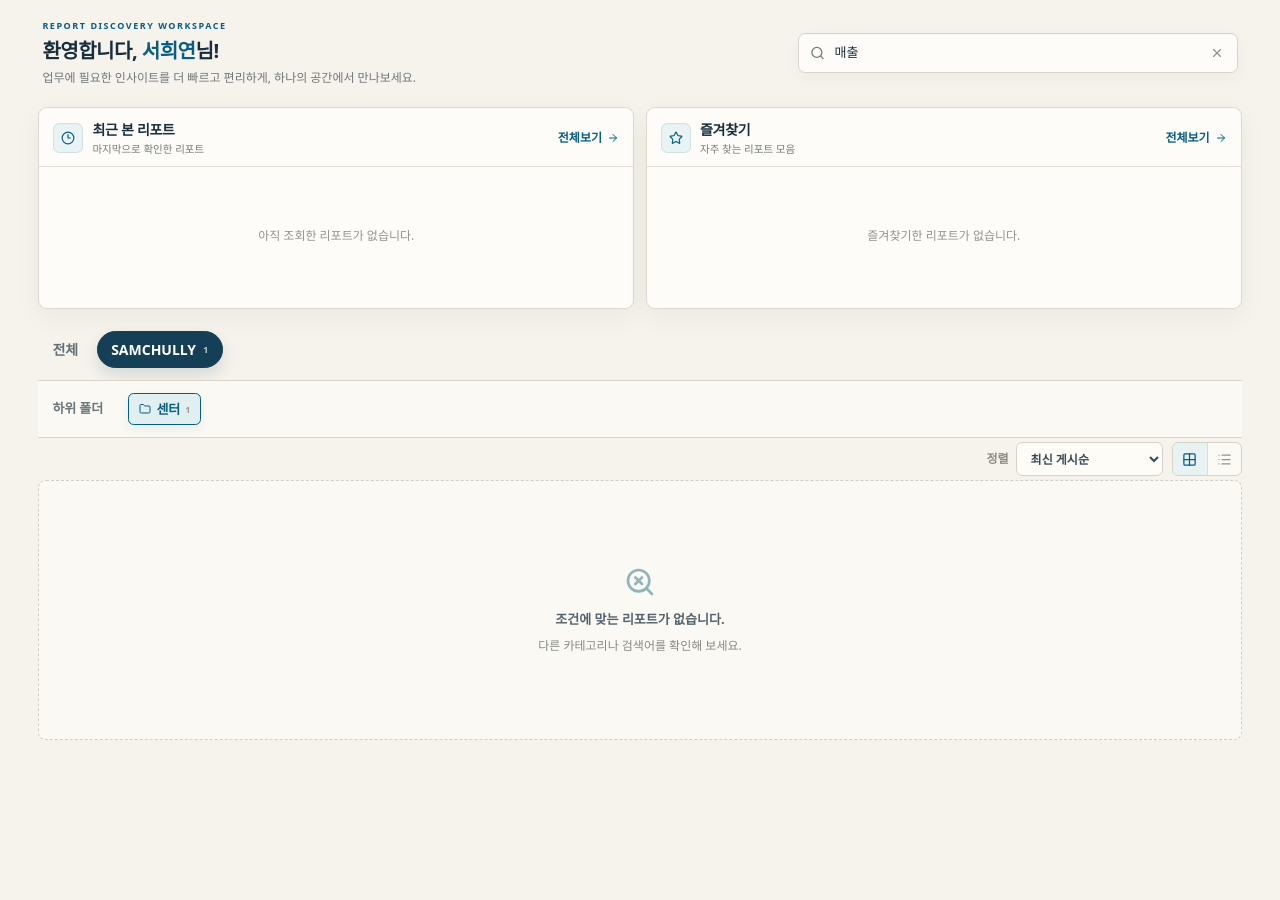
Scenario: HomePage › 기본 진입 시 개인화 환영문과 탐색 섹션을 표시한다
Expected: the 1st heading is shown, [42,37,219,64]
Expected: the search field named "전체 레포트 검색" holds "매출", [798,33,1238,73]
Click the button named "검색어 초기화".
click(1217, 53)  # box [1204,40,1230,66]
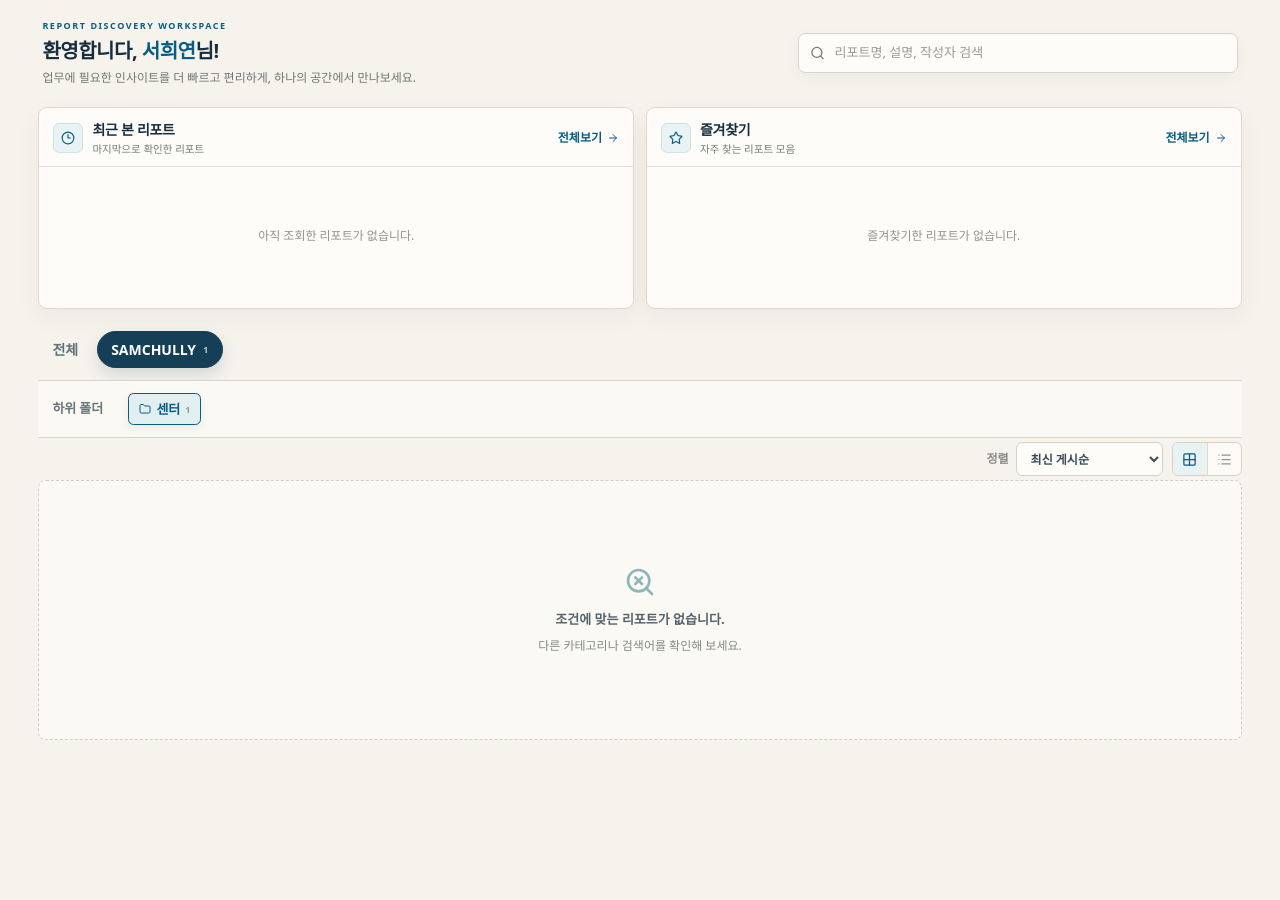
Expected: the search field named "전체 레포트 검색" is empty, [798,33,1238,73]
